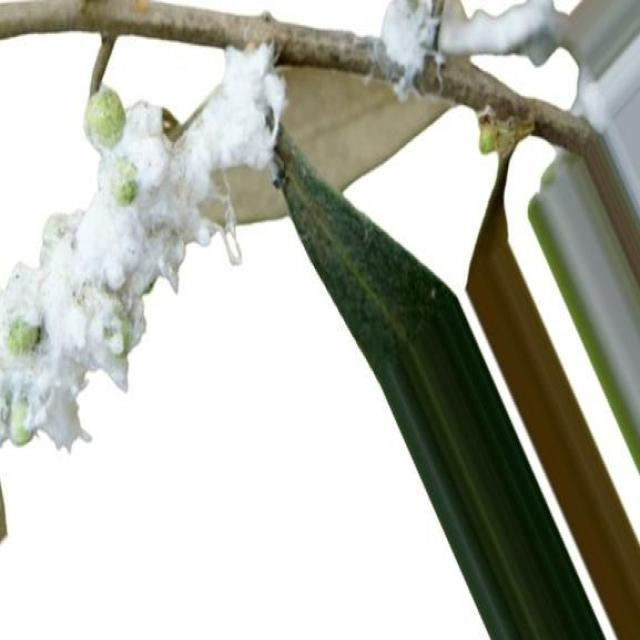Psyllid: (0, 43, 286, 446), (376, 0, 566, 98)
